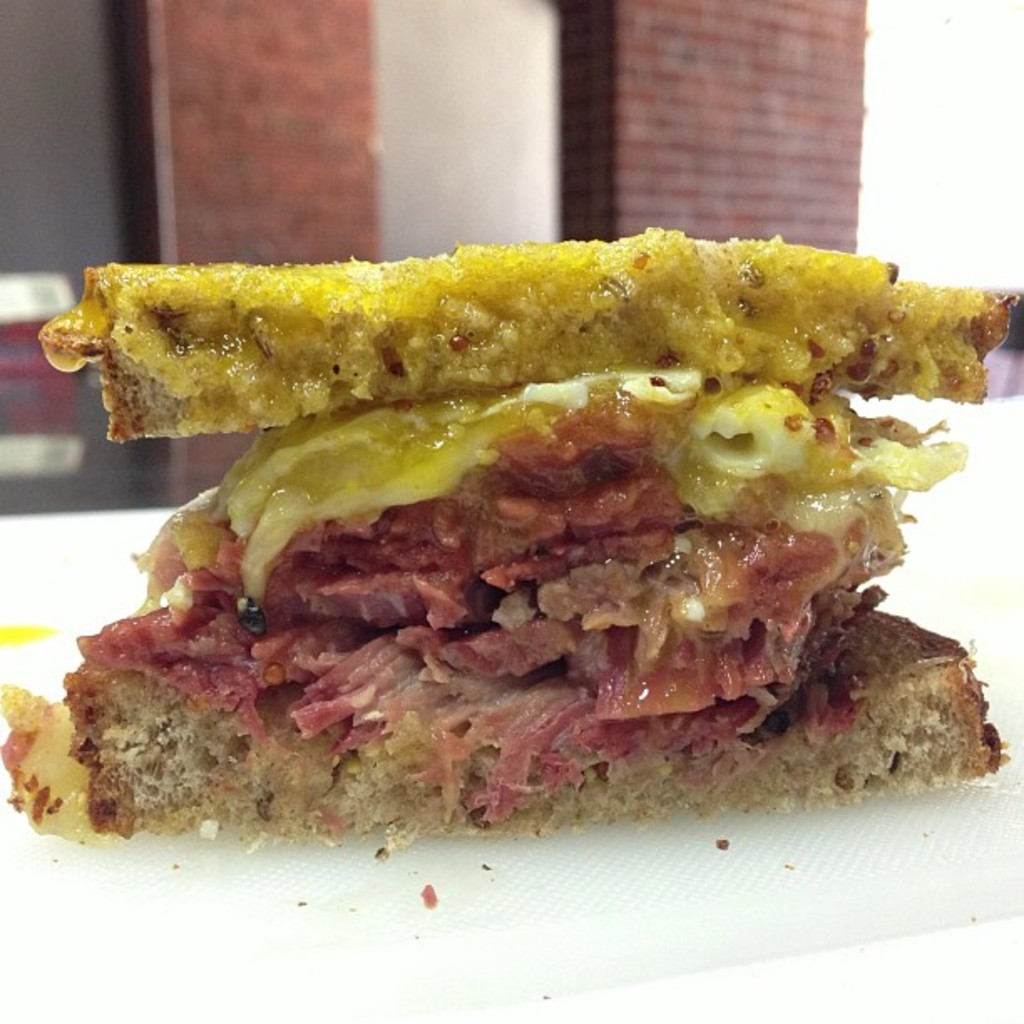sandwich: (0, 226, 1022, 862)
